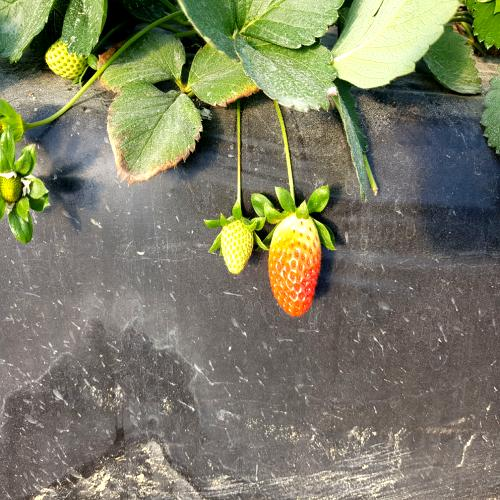partially-ripe: (266, 210, 334, 325)
unripe: (219, 214, 258, 279)
